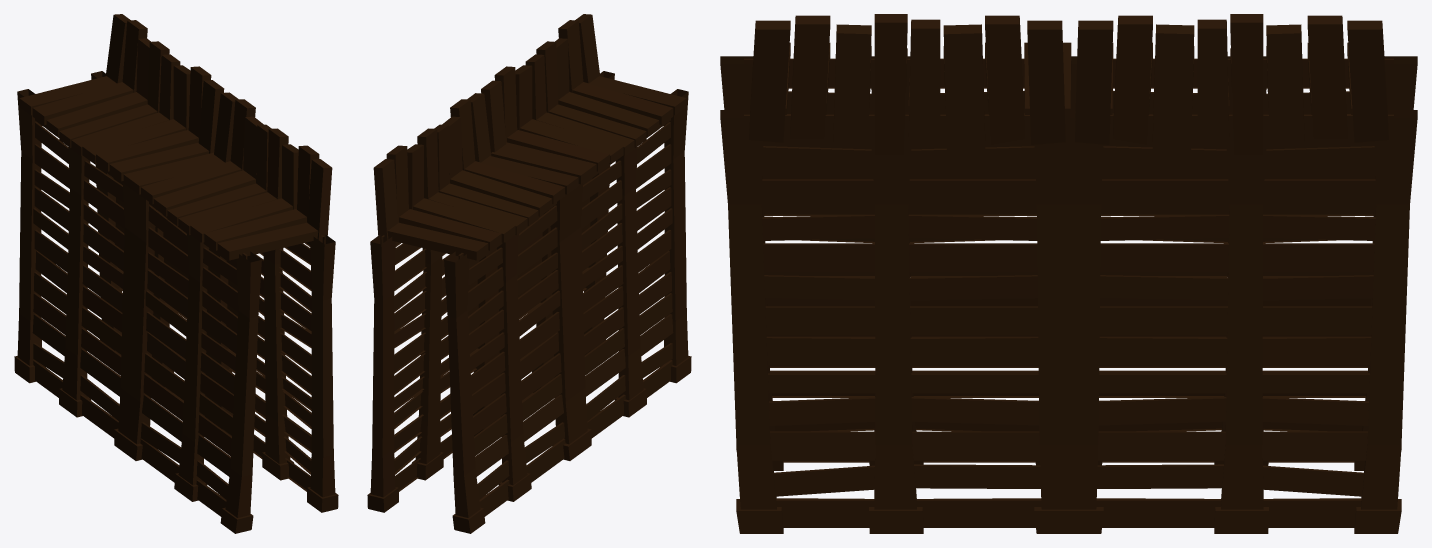
The model's file is WoodWallA.fbx.
3 renders of one model, left to right at view 1: azimuth 30°, elevation 25°; view 2: azimuth 150°, elevation 25°; view 3: azimuth 270°, elevation 25°, orthographic. The views are drawn at different scales.
Visible parts, largest first — view 1: WoodWallA; view 2: WoodWallA; view 3: WoodWallA.
Part boxes in pixels (x1=…): WoodWallA: x1=14, y1=14, x2=338, y2=533; WoodWallA: x1=367, y1=14, x2=691, y2=533; WoodWallA: x1=720, y1=14, x2=1417, y2=533.
Bounding box in the file's own units: 107 × 338 × 417.
